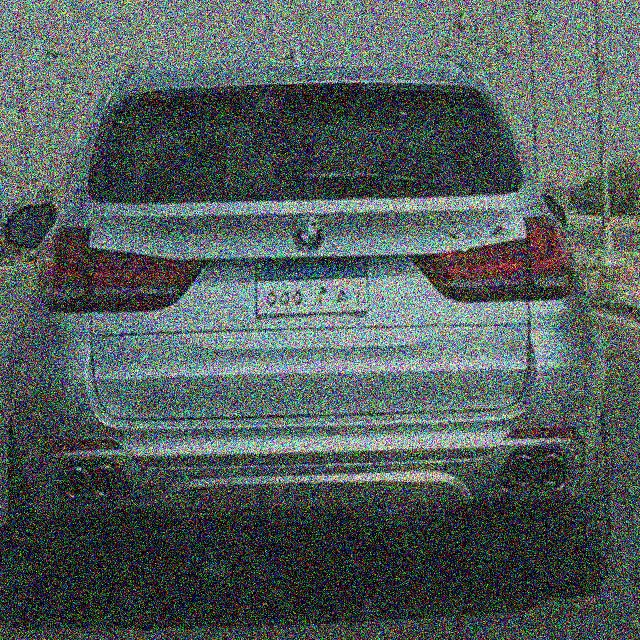License Plate: (253, 257, 371, 318)
